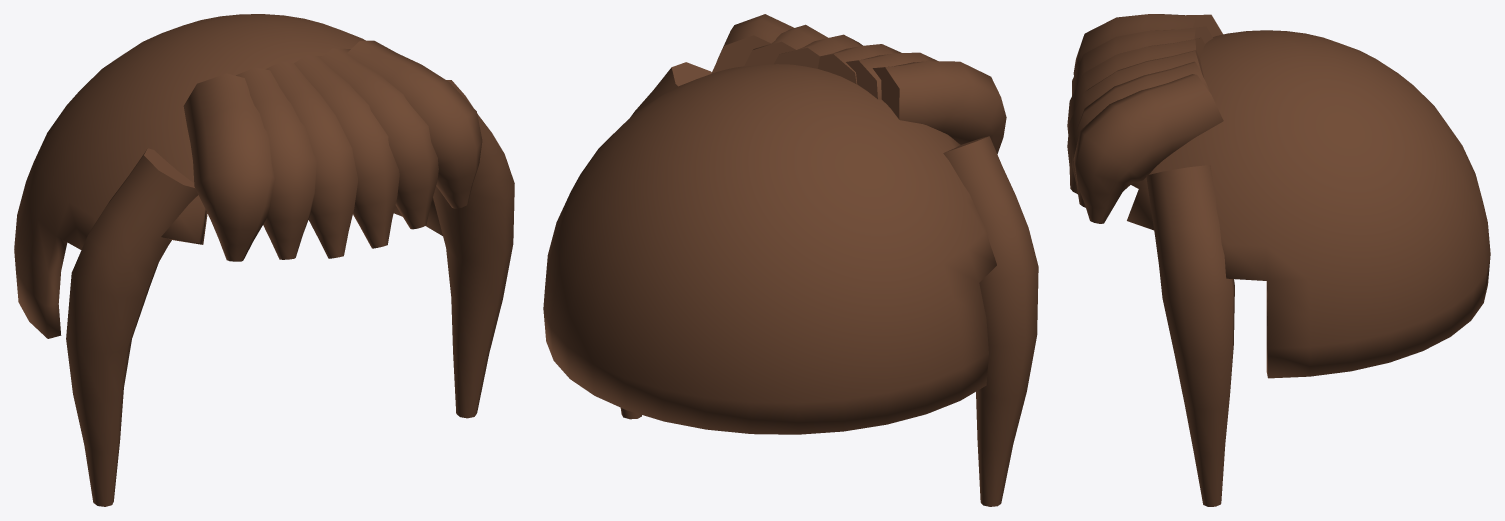
File: hair_long.glb
3 views of the same model, side by side, from view 1: azimuth 30°, elevation 25°; view 2: azimuth 150°, elevation 25°; view 3: azimuth 270°, elevation 25° (orthographic). The views are drawn at different scales.
Parts seen in each view (by area): view 1: lock; view 2: lock; view 3: lock.
Boxes of the visible parts, box(x1,y1,x2,y2) form: lock: box(14, 14, 514, 506); lock: box(543, 14, 1038, 506); lock: box(1067, 14, 1490, 506).
Size of the model in its own units: 2.4 by 2.14 by 2.18.
